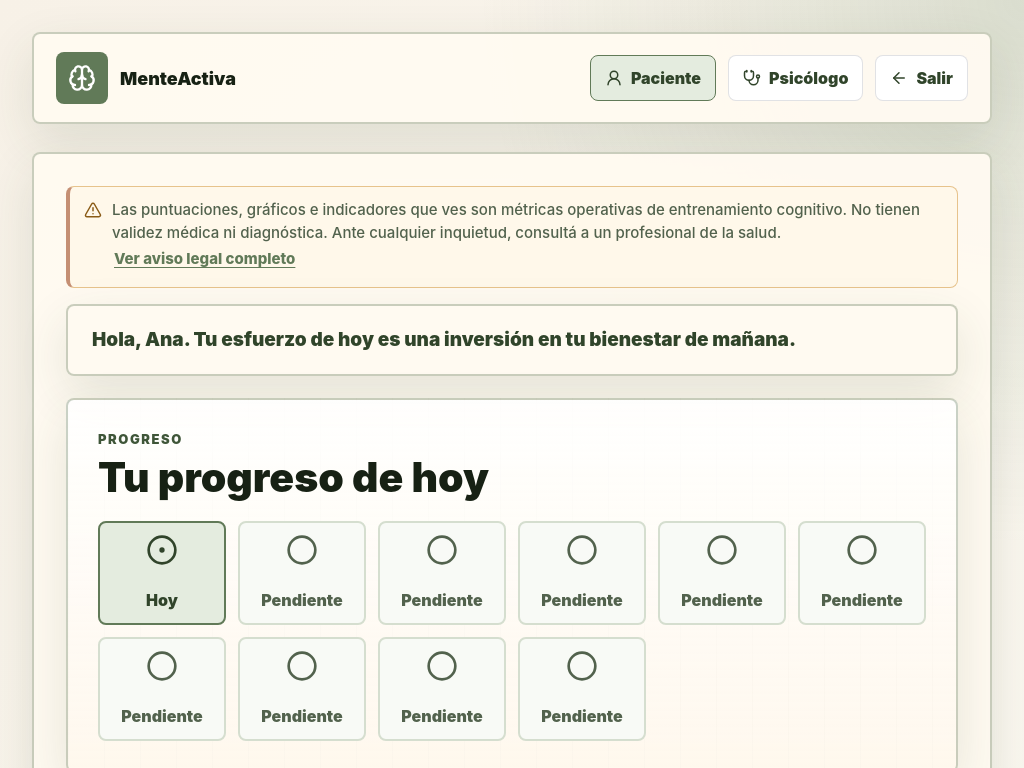
Test case: App – acceso con enlace (F2/F3) › recarga con sesión por cookie: se restaura sin pedir contraseña; Salir la revoca
expect the text "Hola, Ana." is shown: met, box [92,326,796,354]
Click the button "Salir" at (922, 78), box [875,55,968,101]
(page scrolled)
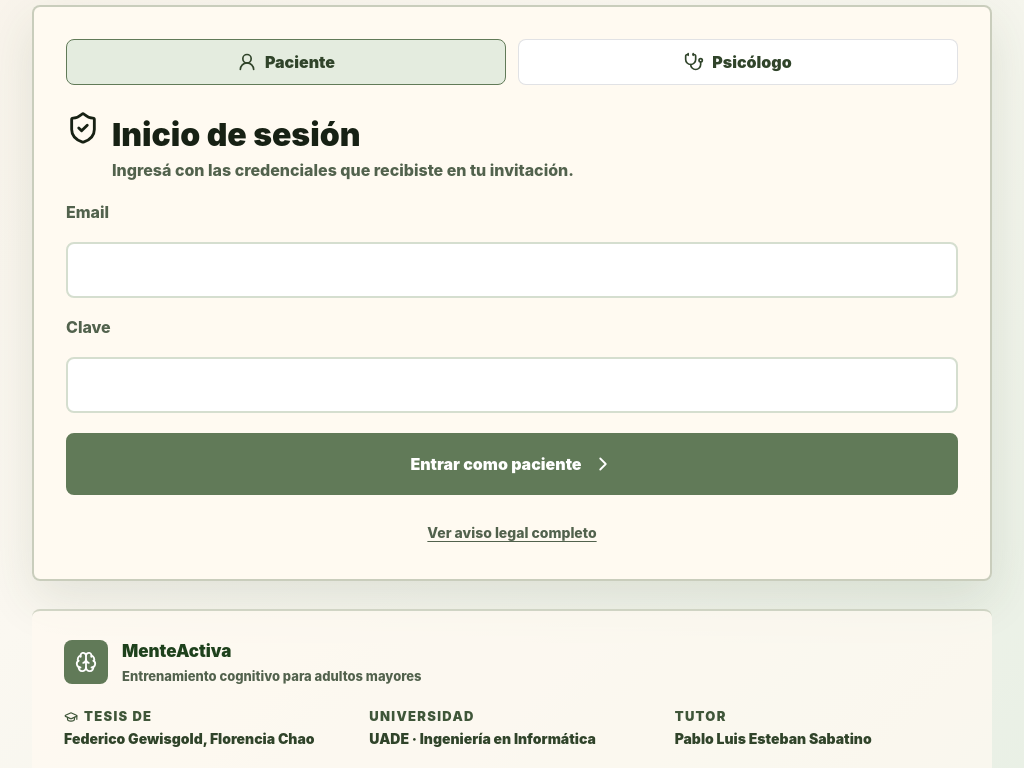
expect the password field labelled "Clave" is shown: met, box [66,357,958,413]
